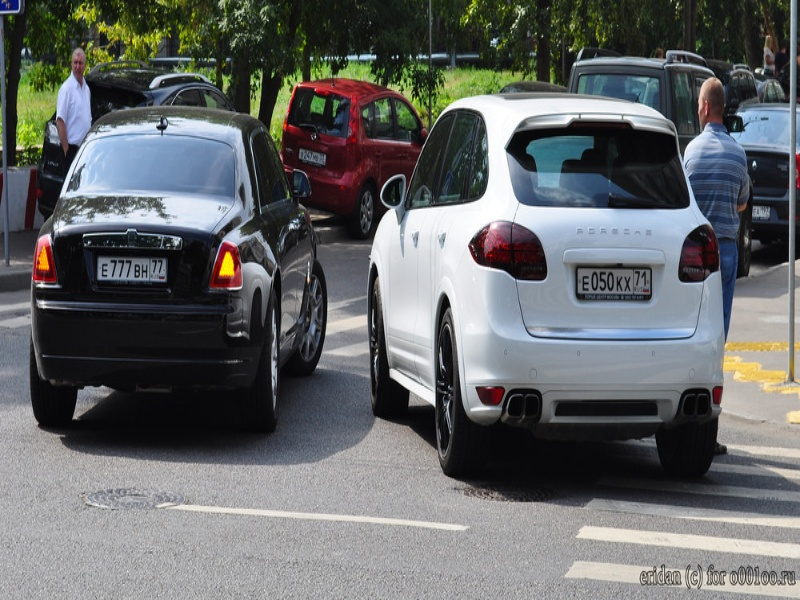car: (369, 92, 724, 476), (31, 106, 327, 433), (37, 61, 235, 216), (281, 78, 427, 239), (567, 45, 714, 155), (729, 100, 800, 238), (704, 57, 758, 107)
person: (682, 77, 748, 341), (55, 47, 93, 175), (762, 35, 775, 75)
plate: (576, 265, 652, 300), (97, 256, 167, 281), (297, 147, 326, 168), (751, 206, 770, 220)
